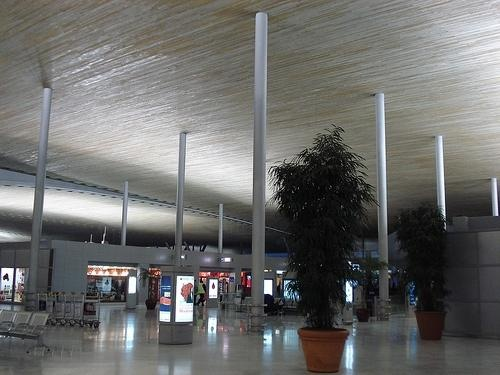pottedplant: (268, 126, 359, 372), (396, 201, 454, 344)
